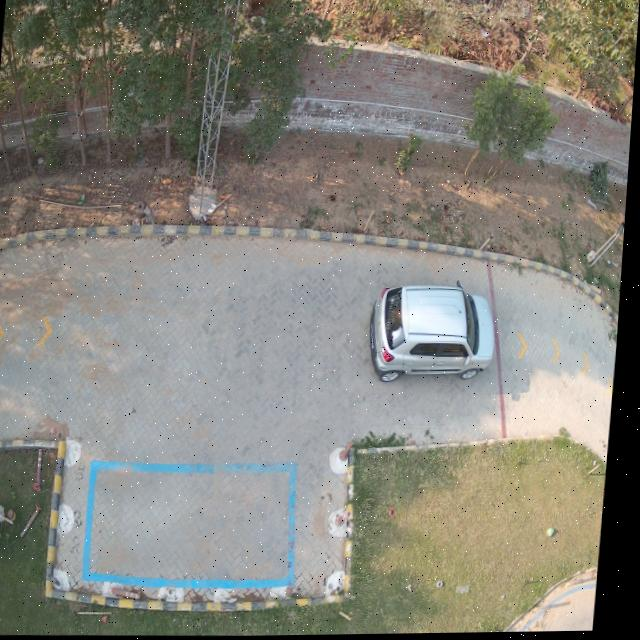car: (374, 286, 500, 383)
